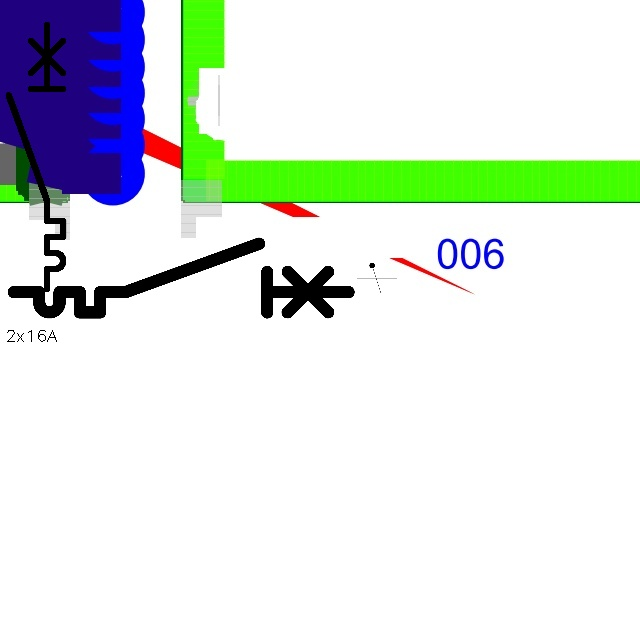interruptor_termomagnetico: (5, 235, 357, 321), (2, 18, 70, 296)
